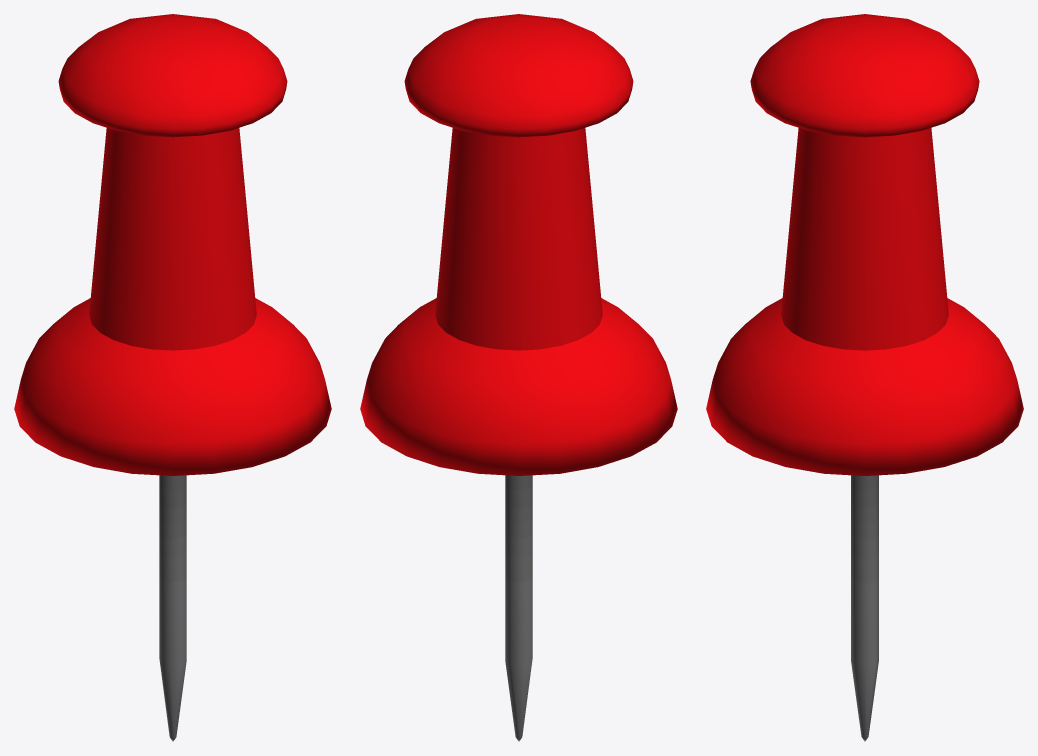
Rendered from thumbtack.glb.
3 renders of one model, left to right at view 1: azimuth 30°, elevation 25°; view 2: azimuth 150°, elevation 25°; view 3: azimuth 270°, elevation 25°, orthographic.
Visible parts, largest first — view 1: Object_3, Object_4; view 2: Object_3, Object_4; view 3: Object_3, Object_4.
Part boxes in pixels (bbox=[...]): Object_3: bbox=[14, 14, 331, 475]; Object_4: bbox=[159, 475, 186, 741]; Object_3: bbox=[360, 14, 677, 475]; Object_4: bbox=[505, 475, 532, 741]; Object_3: bbox=[706, 14, 1023, 475]; Object_4: bbox=[851, 475, 878, 741].
Size of the model in its own units: 0.0772 by 0.1899 by 0.0772.
2 materials, 2 textured.
